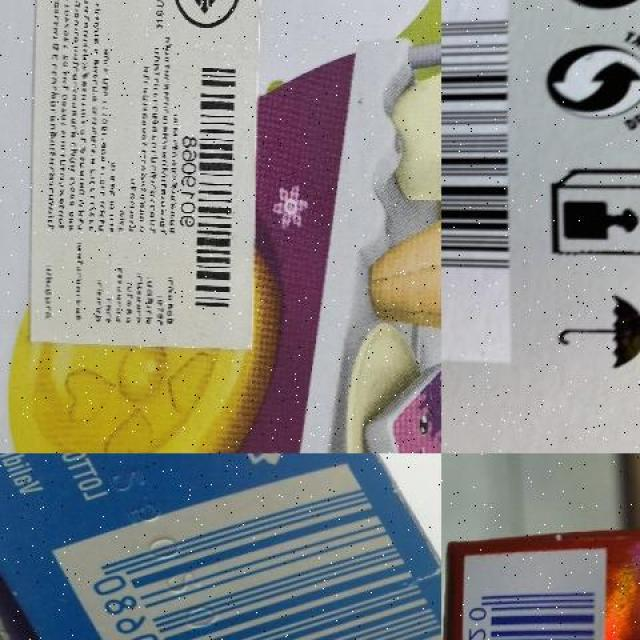Barcode: (47, 460, 441, 640), (442, 0, 514, 363), (179, 54, 241, 322), (460, 568, 601, 640)
